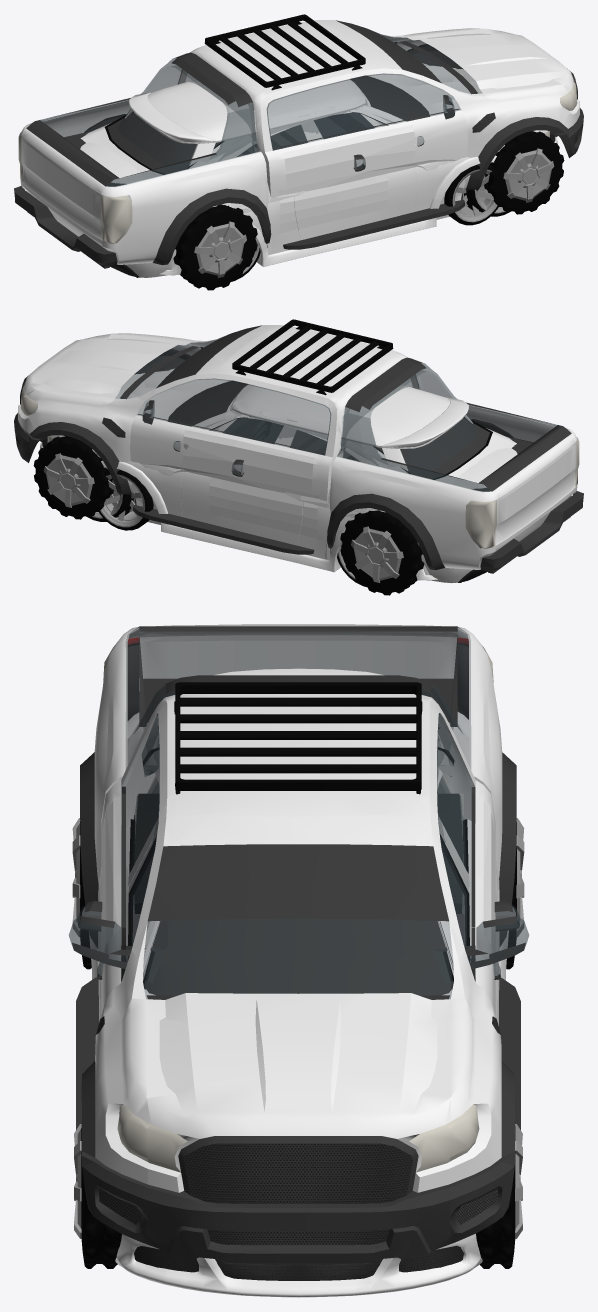
Rendered from cars.v1.glb.
The picture shows the model from 3 angles, top to bottom: view 1: azimuth 30°, elevation 25°; view 2: azimuth 150°, elevation 25°; view 3: azimuth 270°, elevation 25°; orthographic projection. The views are drawn at different scales.
Parts seen in each view (by area): view 1: pickup_body, hatch_body, pickup_doorpanel_fr, sedan_body, hatch_doorpanel_fr, pickup_tyre_rr, saloon_body, pickup_tyre_fr, hatch_tyre_fr, pickup_inside, hatch_inside, saloon_doorpanel_rr (+2 smaller); view 2: pickup_body, hatch_body, pickup_doorpanel_fl, sedan_body, hatch_doorpanel_fl, pickup_tyre_rl, saloon_body, pickup_tyre_fl, hatch_tyre_fl, pickup_inside, saloon_doorpanel_rl, saloon_doorpanel_fl (+2 smaller); view 3: pickup_body, saloon_body, pickup_doorpanel_fr, pickup_doorpanel_fl, pickup_tyre_fr, pickup_tyre_fl, hatch_doorpanel_fl, hatch_doorpanel_fr, hatch_body, sedan_body, saloon_doorpanel_fr, pickup_tyre_rr (+6 smaller).
Part boxes in pixels (left/top/right/bottom): pickup_body: left=14, top=14, right=583, bottom=268; hatch_body: left=119, top=79, right=496, bottom=275; pickup_doorpanel_fr: left=274, top=90, right=415, bottom=194; sedan_body: left=80, top=65, right=481, bottom=254; hatch_doorpanel_fr: left=271, top=113, right=388, bottom=235; pickup_tyre_rr: left=173, top=204, right=257, bottom=290; saloon_body: left=80, top=63, right=557, bottom=277; pickup_tyre_fr: left=484, top=131, right=564, bottom=214; hatch_tyre_fr: left=444, top=164, right=499, bottom=225; pickup_inside: left=281, top=113, right=372, bottom=144; hatch_inside: left=242, top=117, right=348, bottom=154; saloon_doorpanel_rr: left=254, top=121, right=318, bottom=202; pickup_body: left=14, top=319, right=583, bottom=573; hatch_body: left=101, top=384, right=478, bottom=580; pickup_doorpanel_fl: left=182, top=396, right=322, bottom=497; sedan_body: left=116, top=370, right=516, bottom=559; hatch_doorpanel_fl: left=209, top=418, right=326, bottom=540; pickup_tyre_rl: left=340, top=510, right=424, bottom=595; saloon_body: left=39, top=368, right=517, bottom=583; pickup_tyre_fl: left=33, top=436, right=113, bottom=519; hatch_tyre_fl: left=98, top=469, right=153, bottom=530; pickup_inside: left=225, top=418, right=316, bottom=449; saloon_doorpanel_rl: left=279, top=426, right=343, bottom=526; saloon_doorpanel_fl: left=167, top=413, right=258, bottom=475; pickup_body: left=69, top=624, right=528, bottom=1264; saloon_body: left=100, top=712, right=497, bottom=1297; pickup_doorpanel_fr: left=101, top=748, right=146, bottom=975; pickup_doorpanel_fl: left=451, top=749, right=495, bottom=975; pickup_tyre_fr: left=74, top=1123, right=121, bottom=1268; pickup_tyre_fl: left=476, top=1124, right=522, bottom=1268; hatch_doorpanel_fl: left=437, top=777, right=519, bottom=1016; hatch_doorpanel_fr: left=78, top=783, right=158, bottom=1016; hatch_body: left=89, top=668, right=508, bottom=1026; sedan_body: left=121, top=715, right=475, bottom=999; saloon_doorpanel_fr: left=97, top=878, right=167, bottom=980; pickup_tyre_rr: left=72, top=818, right=91, bottom=969.
Bounding box in the file's own units: 5.69 × 1.87 × 2.26.
Materials: 32 (18 with a texture image).
